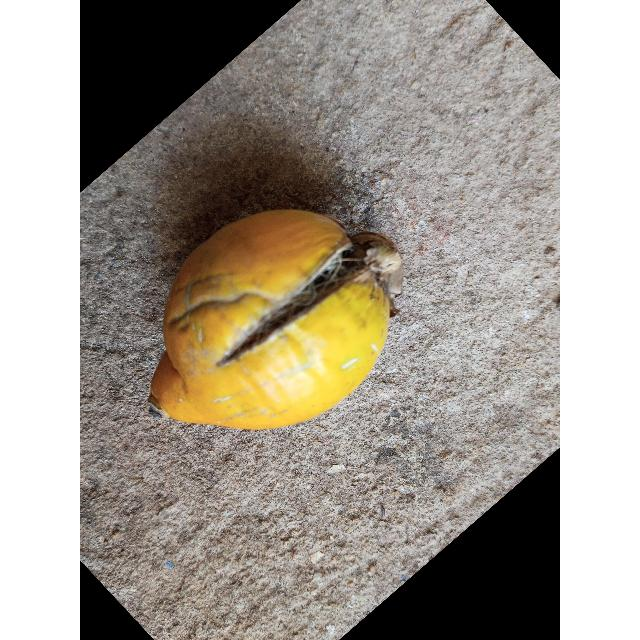damaged: (148, 210, 402, 434)
